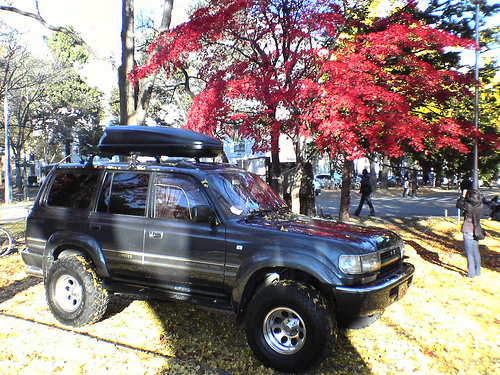car: (18, 130, 414, 369)
